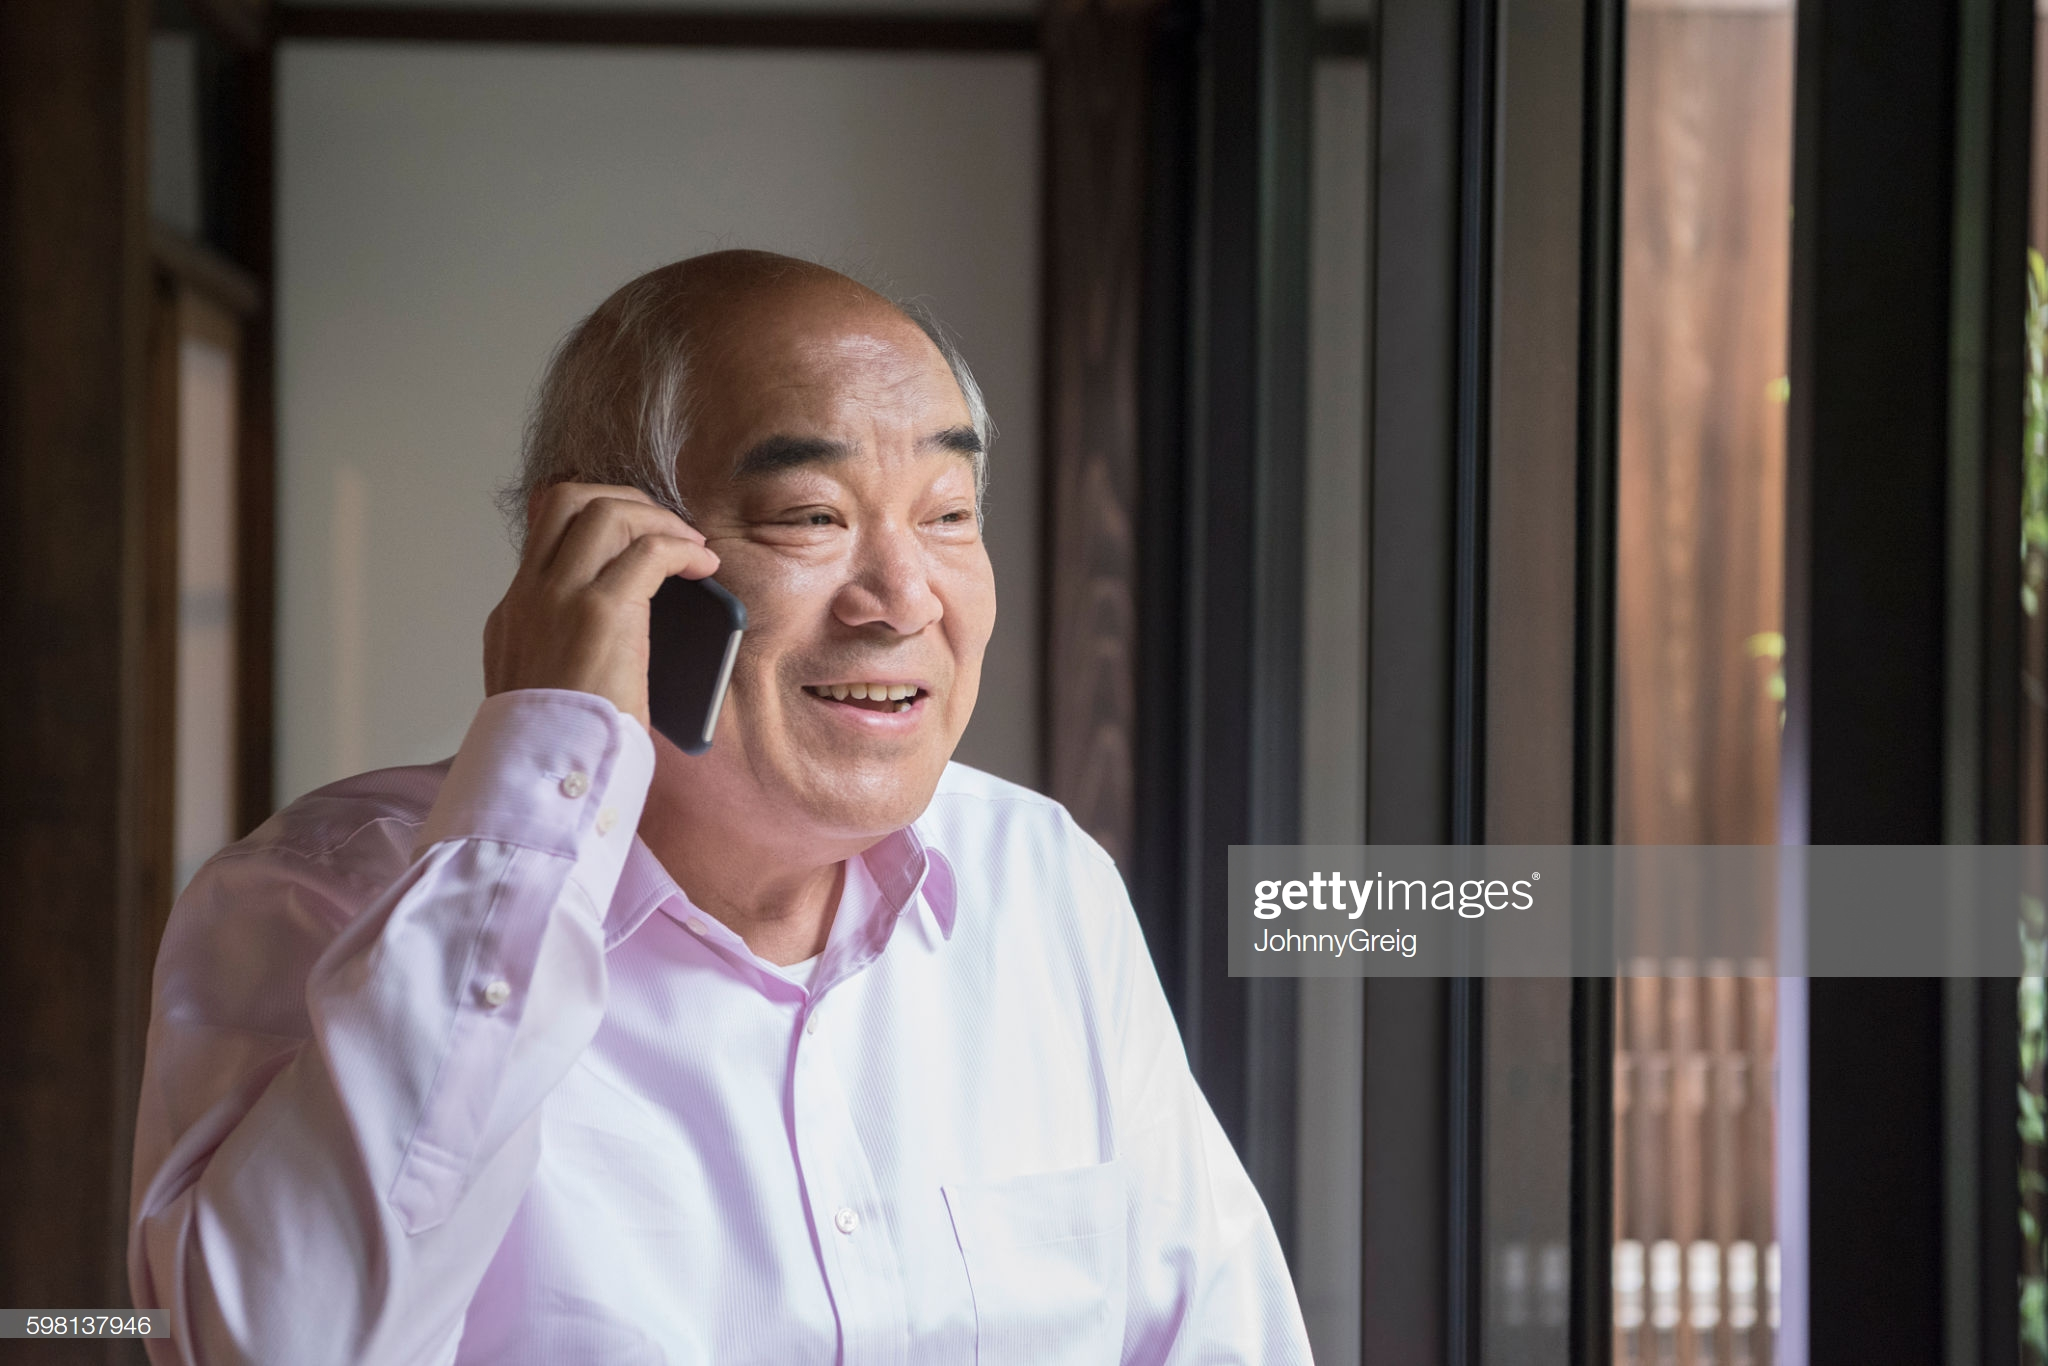phone: (523, 495, 748, 784)
talk: (450, 402, 1024, 842)
